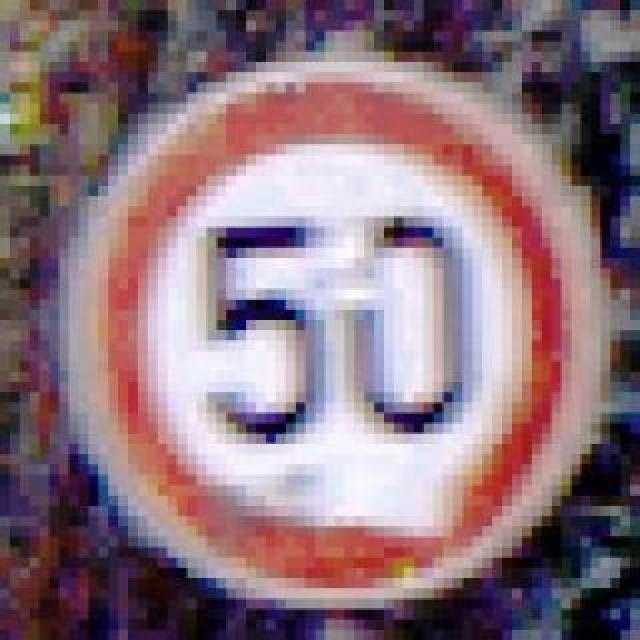50 kph: (60, 52, 582, 578)
